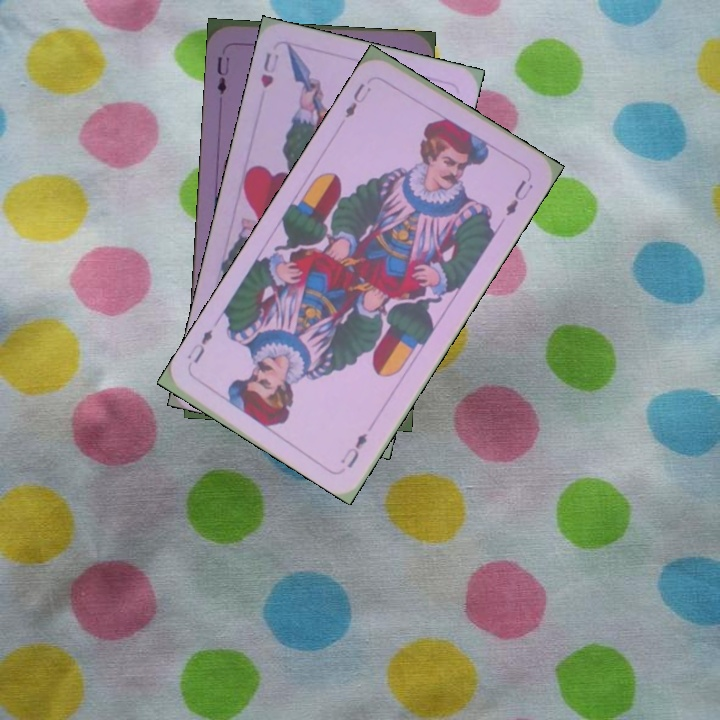EU: (337, 428, 370, 471), (341, 79, 374, 121), (213, 53, 232, 97)
HU: (256, 48, 282, 90)
